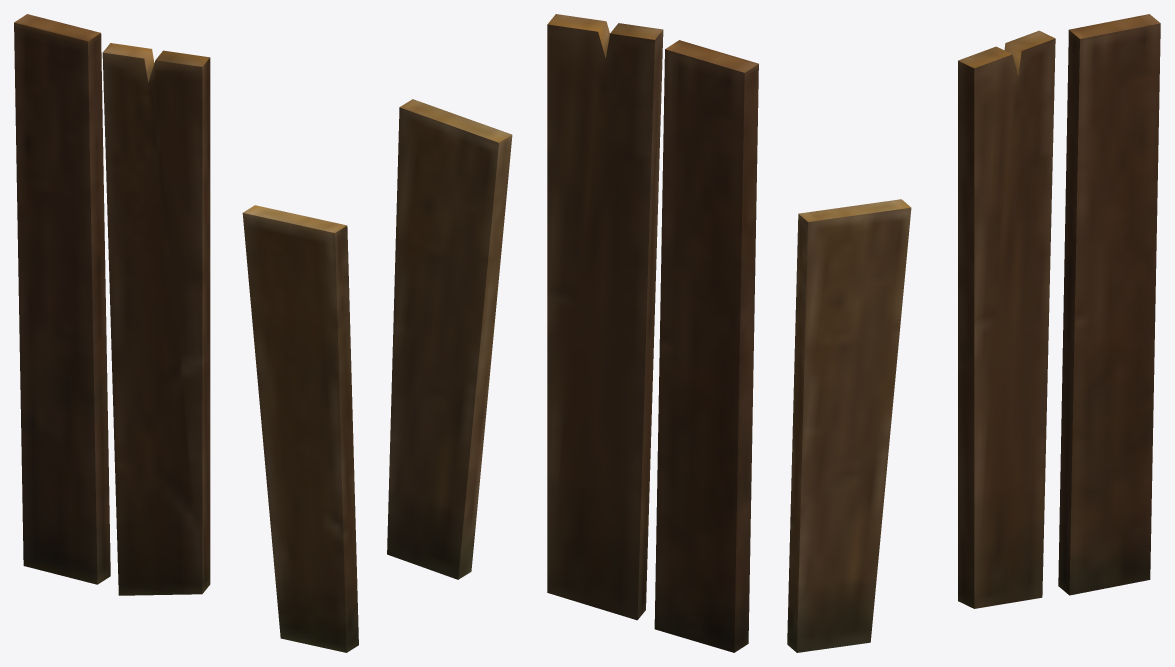
File: Fence_elements1.fbx
The picture shows the model from 3 angles, left to right: view 1: azimuth 30°, elevation 25°; view 2: azimuth 210°, elevation 25°; view 3: azimuth 270°, elevation 25°; orthographic projection. The views are drawn at different scales.
Parts seen in each view (by area): view 1: Fence_elements1; view 2: Fence_elements1; view 3: Fence_elements1.
Boxes of the visible parts, box(x1,y1,x2,y2) form: Fence_elements1: box(14, 14, 358, 652); Fence_elements1: box(387, 14, 758, 652); Fence_elements1: box(787, 14, 1160, 652).
Bounding box in the file's own units: 41 × 123 × 74.82.
1 material, 1 textured.
